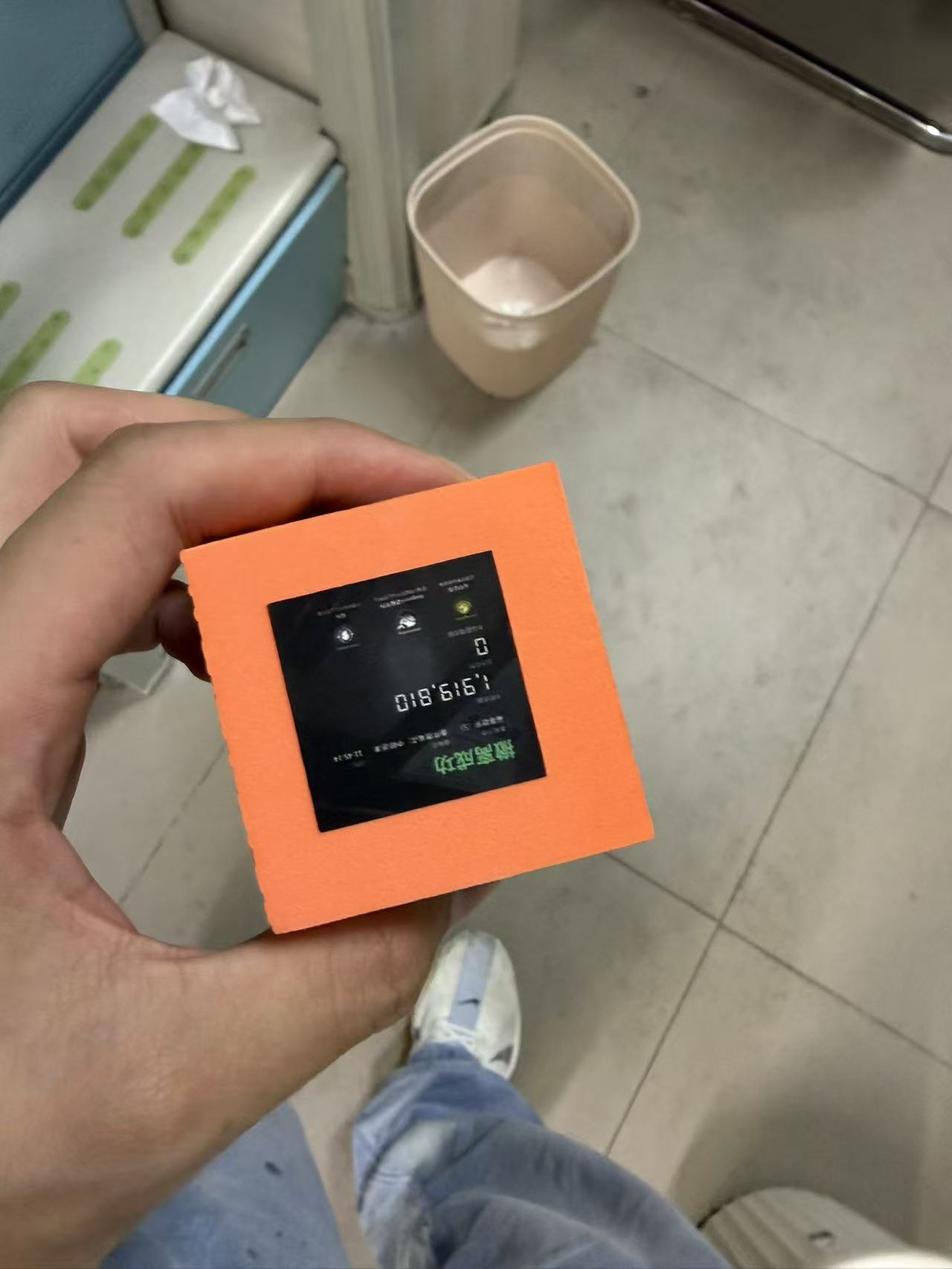cheli: (264, 549, 550, 837)
